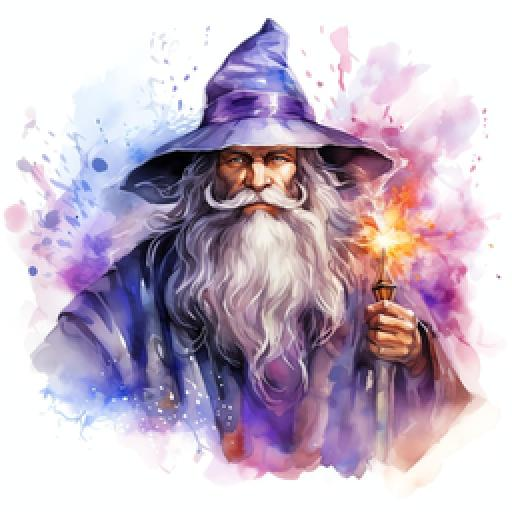wizards: (30, 4, 472, 469)
